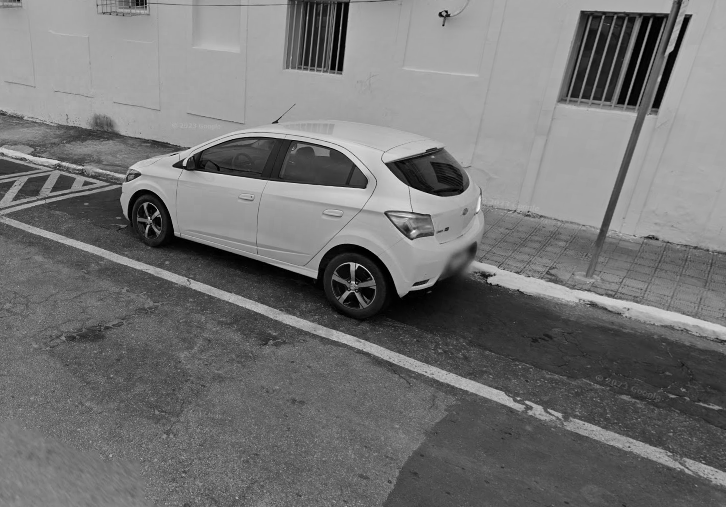car: (114, 91, 491, 334)
